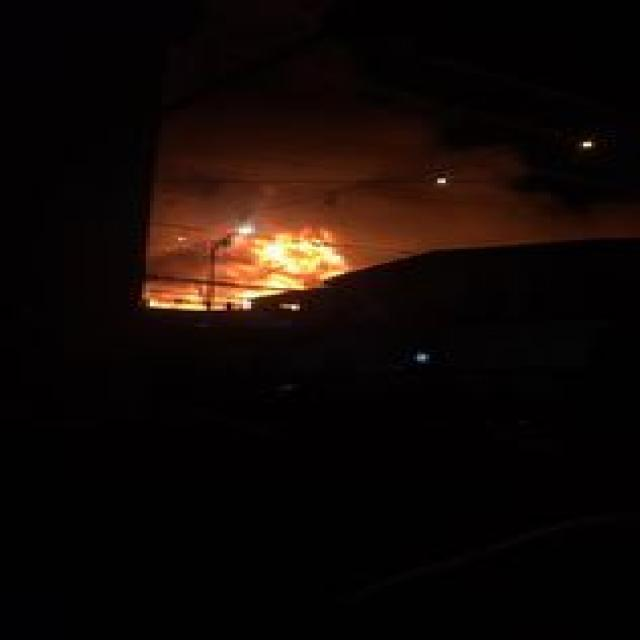Fire: (167, 114, 532, 240), (184, 227, 360, 282), (162, 272, 261, 308)
